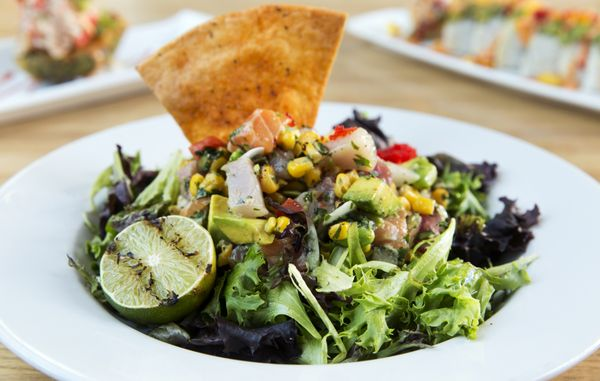soup: (134, 6, 348, 148)
